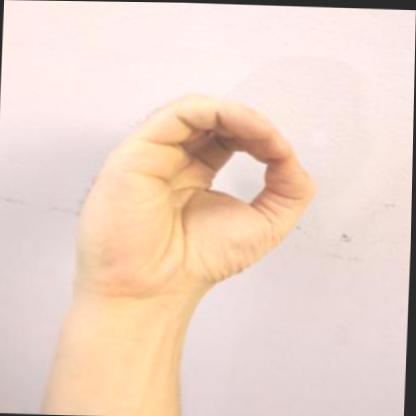O: (61, 80, 330, 312)
